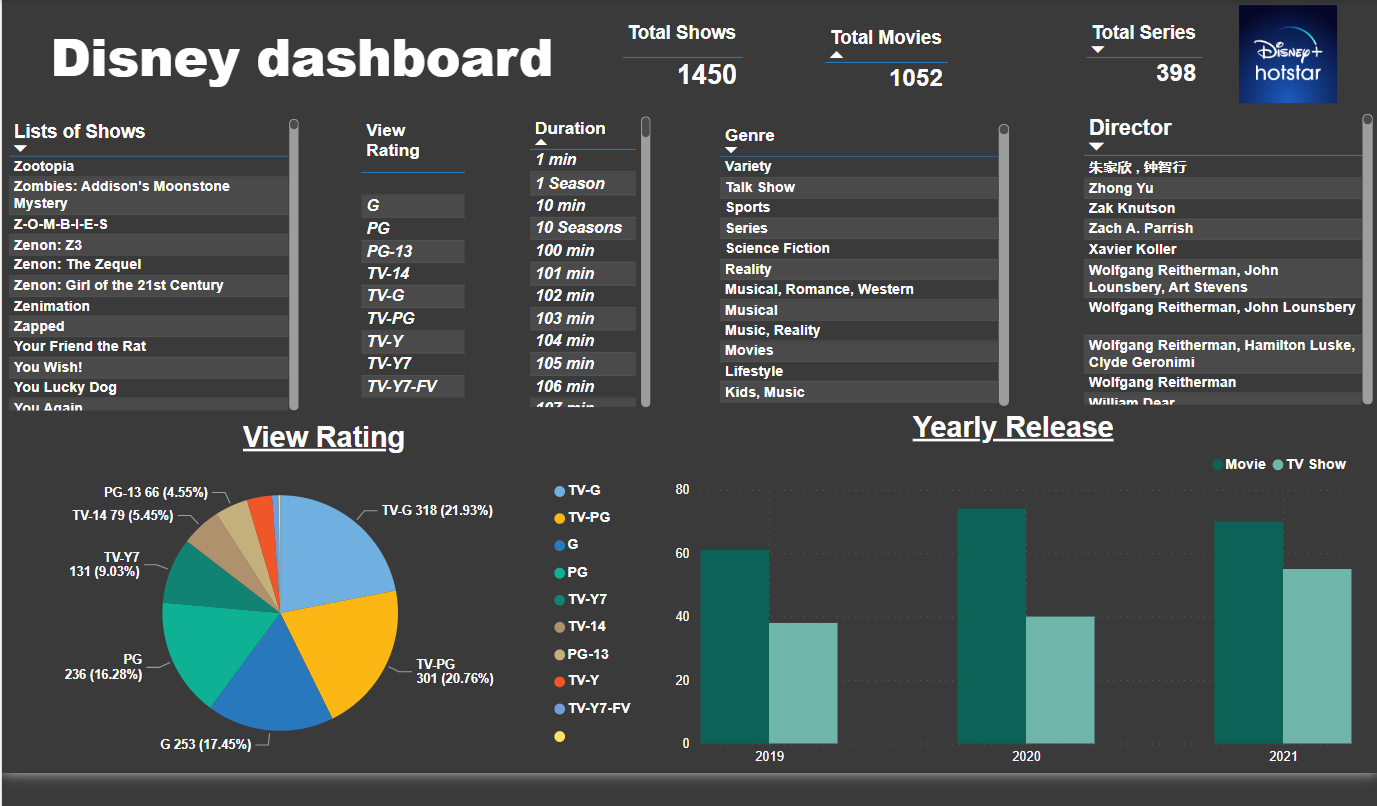

This screenshot's page, from the dashboard's own definition file:
{"tool":"powerbi","page":{"name":"Page 11","canvas":[1280,720],"ordinal":10},"visuals":[{"type":"tableEx","fields":{"Values":["disney_plus_titles.type"]},"box":[570.9,13.4,157.7,88],"z":0},{"type":"tableEx","fields":{"Values":["disney_plus_titles.movie/tv show"]},"box":[759.1,18.3,143,85.6],"z":1},{"type":"tableEx","fields":{"Values":["disney_plus_titles.movie/tv show"]},"box":[1002.4,13.4,138.1,80.7],"z":2},{"type":"tableEx","fields":{"Values":["disney_plus_titles.title"]},"box":[0,106.3,281.2,281.2],"z":3},{"type":"tableEx","fields":{"Values":["disney_plus_titles.listed_in"]},"box":[661.3,110,279.9,272.6],"z":4},{"type":"tableEx","fields":{"Values":["disney_plus_titles.director"]},"box":[999.9,101.5,279.9,279.9],"z":5},{"type":"tableEx","fields":{"Values":["disney_plus_titles.duration"]},"box":[485.3,103.9,123.5,279.9],"z":6},{"type":"pieChart","title":"View Rating","fields":{"Category":["disney_plus_titles.rating"],"Y":["disney_plus_titles.title"]},"box":[0,392.4,599,327.6],"z":8},{"type":"lineClusteredColumnComboChart","title":"Yearly Release","fields":{"Category":["disney_plus_titles.release_year"],"Y":["disney_plus_titles.type"],"Series":["disney_plus_titles.type"]},"box":[621,382.6,639.3,337.4],"z":9},{"type":"tableEx","fields":{"Values":["disney_plus_titles.rating"]},"box":[327.6,106.3,117.4,279.9],"z":10},{"type":"textbox","box":[10.9,13.3,536.7,96.5],"z":11},{"type":"image","box":[1114.4,0,165.2,101.3],"z":12}]}

Visuals, with their boxes on the page's 1280x720 design canvas (x1, y1, x2, y2). These are canvas units, not pixel positions in the 1377x806 screenshot, which may show the page scaled, cropped or inside an application window:
tableEx - disney_plus_titles.type: {"left": 571, "top": 13, "right": 729, "bottom": 101}
tableEx - disney_plus_titles.movie/tv show: {"left": 759, "top": 18, "right": 902, "bottom": 104}
tableEx - disney_plus_titles.movie/tv show: {"left": 1002, "top": 13, "right": 1140, "bottom": 94}
tableEx - disney_plus_titles.title: {"left": 0, "top": 106, "right": 281, "bottom": 388}
tableEx - disney_plus_titles.listed_in: {"left": 661, "top": 110, "right": 941, "bottom": 383}
tableEx - disney_plus_titles.director: {"left": 1000, "top": 102, "right": 1280, "bottom": 381}
tableEx - disney_plus_titles.duration: {"left": 485, "top": 104, "right": 609, "bottom": 384}
"View Rating" pieChart: {"left": 0, "top": 392, "right": 599, "bottom": 720}
"Yearly Release" lineClusteredColumnComboChart: {"left": 621, "top": 383, "right": 1260, "bottom": 720}
tableEx - disney_plus_titles.rating: {"left": 328, "top": 106, "right": 445, "bottom": 386}
textbox: {"left": 11, "top": 13, "right": 548, "bottom": 110}
image: {"left": 1114, "top": 0, "right": 1280, "bottom": 101}
